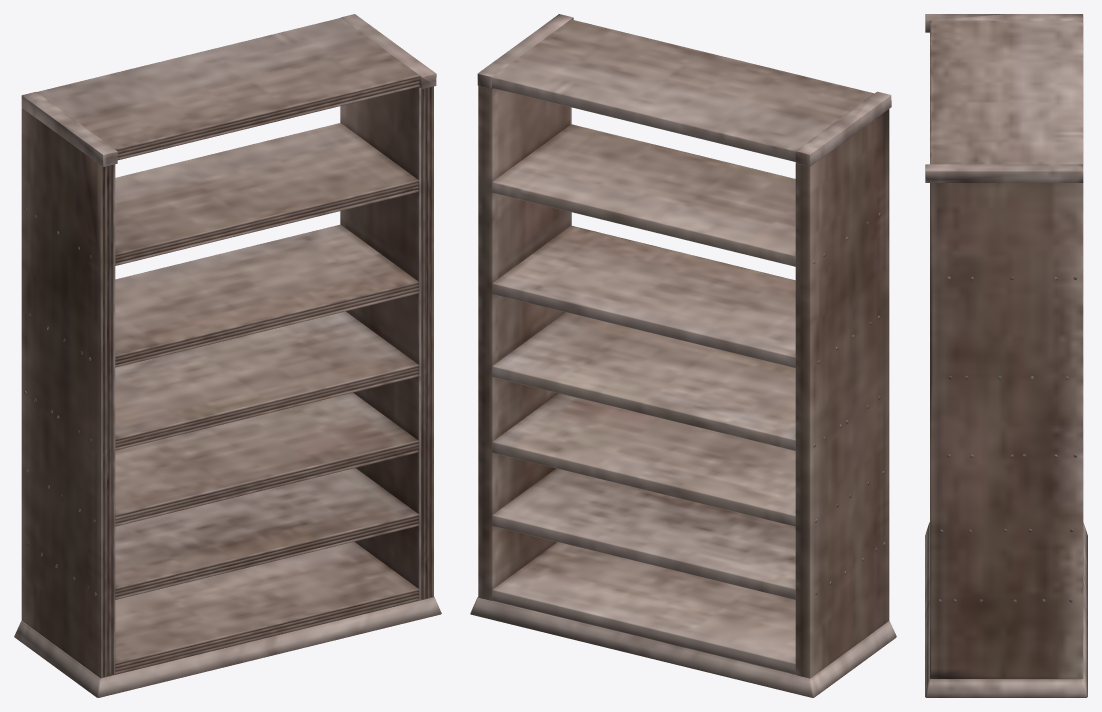
File: bookshelf-worn.lite.8f4ce1c7.glb
The picture shows the model from 3 angles, left to right: view 1: azimuth 30°, elevation 25°; view 2: azimuth 150°, elevation 25°; view 3: azimuth 270°, elevation 25°; orthographic projection. The views are drawn at different scales.
Parts seen in each view (by area): view 1: model; view 2: model; view 3: model.
Boxes of the visible parts, box(x1,y1,x2,y2) form: model: box(14, 14, 441, 697); model: box(470, 14, 896, 697); model: box(925, 14, 1087, 697).
Bounding box in the file's own units: 1.37 × 2.06 × 0.5813.
1 material, 1 textured.
